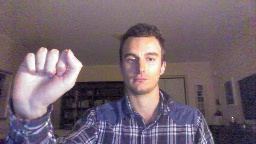Pugno: (8, 46, 85, 117)
